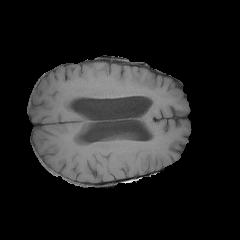glioma: (62, 79, 153, 103)
